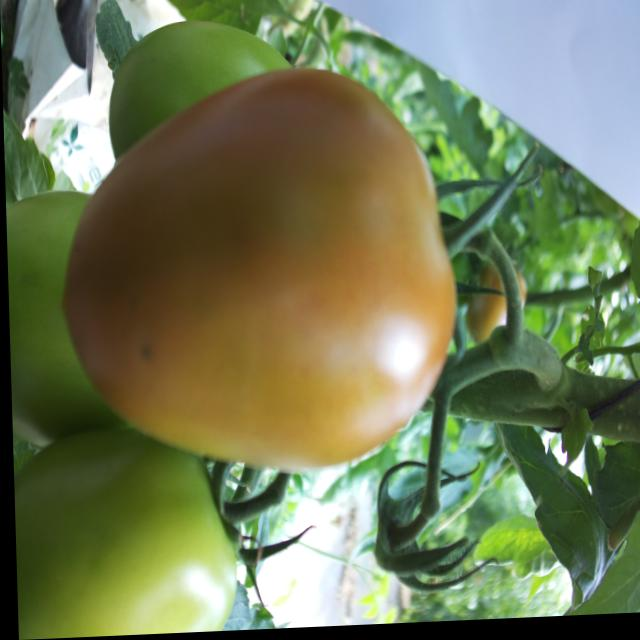sari: (83, 111, 446, 463)
